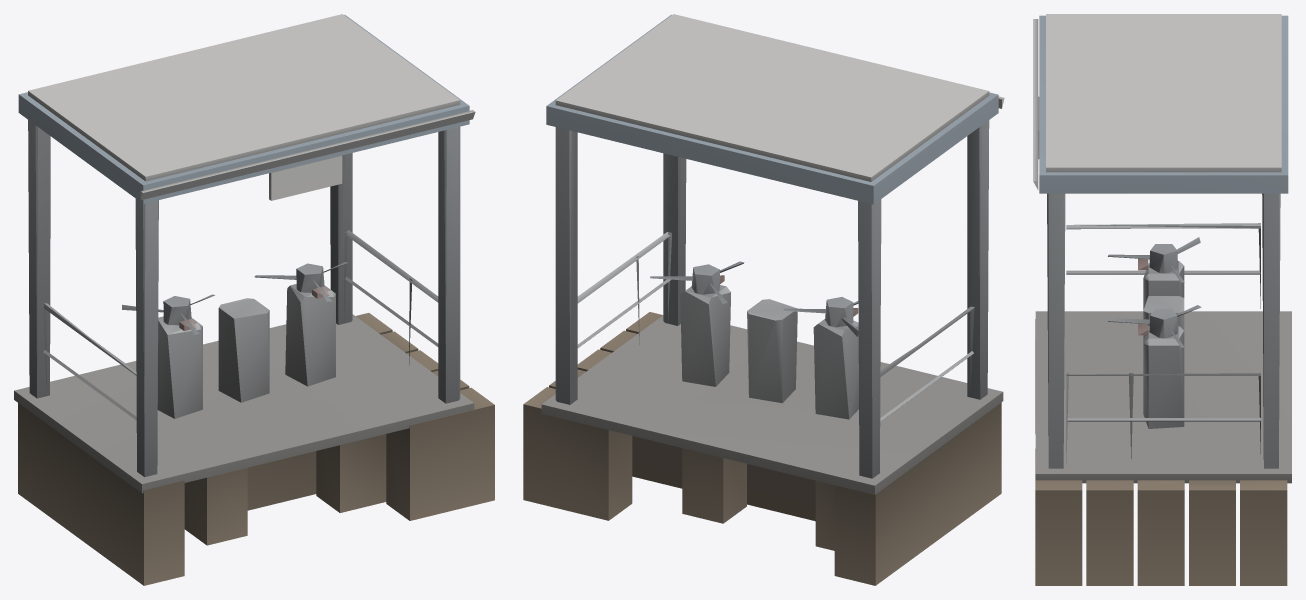
File: turnstile.lod1.glb
The picture shows the model from 3 angles, left to right: view 1: azimuth 30°, elevation 25°; view 2: azimuth 150°, elevation 25°; view 3: azimuth 270°, elevation 25°; orthographic projection.
Size of the model in its own units: 3.98 by 4.35 by 2.53.
